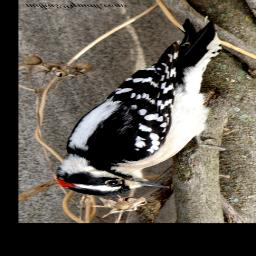Woodpecker: (56, 18, 225, 197)
